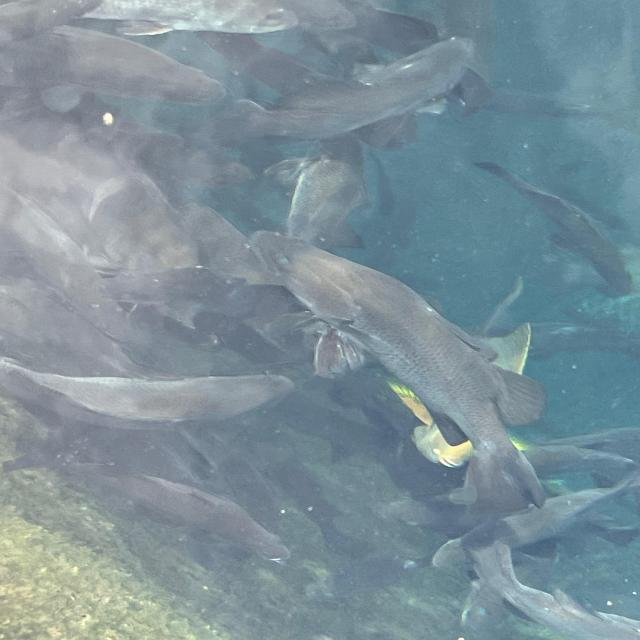ikan: (286, 212, 529, 418)
